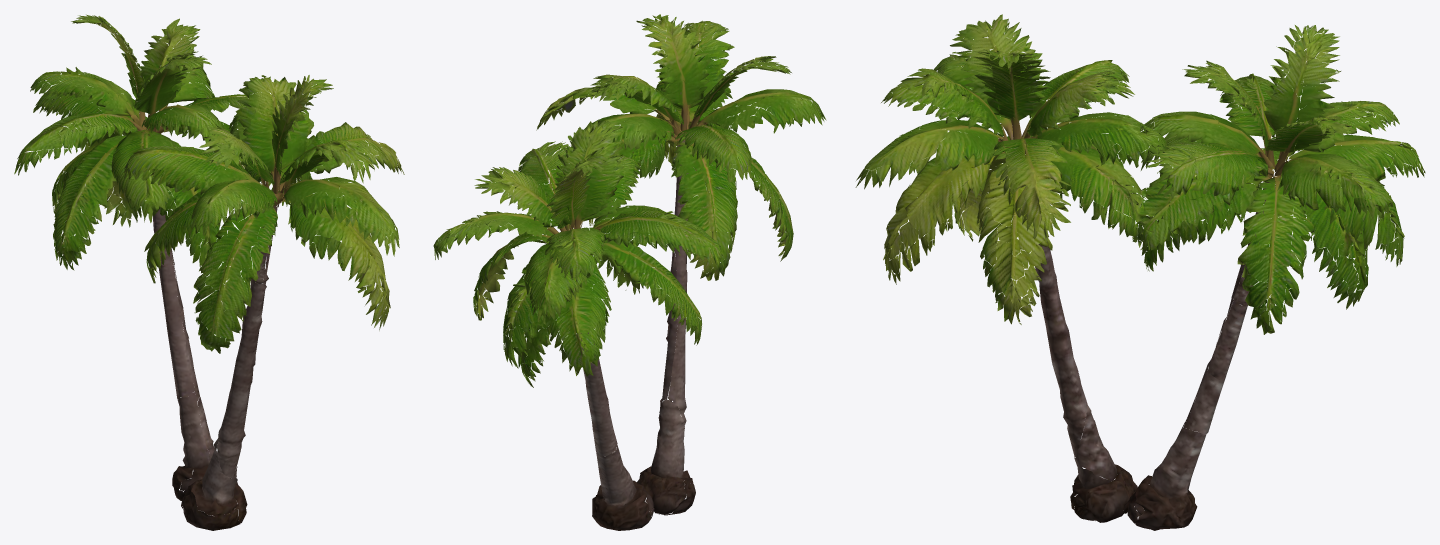
The model's file is palm_pair.glb.
3 renders of one model, left to right at view 1: azimuth 30°, elevation 25°; view 2: azimuth 150°, elevation 25°; view 3: azimuth 270°, elevation 25°, orthographic. The views are drawn at different scales.
Parts seen in each view (by area): view 1: tripo_node_8237481f-205d-4fab-b2f8-46aa4c0a24b6; view 2: tripo_node_8237481f-205d-4fab-b2f8-46aa4c0a24b6; view 3: tripo_node_8237481f-205d-4fab-b2f8-46aa4c0a24b6.
Part boxes in pixels (x1=…): tripo_node_8237481f-205d-4fab-b2f8-46aa4c0a24b6: x1=14, y1=14, x2=404, y2=530; tripo_node_8237481f-205d-4fab-b2f8-46aa4c0a24b6: x1=433, y1=14, x2=826, y2=530; tripo_node_8237481f-205d-4fab-b2f8-46aa4c0a24b6: x1=855, y1=14, x2=1425, y2=530.
Size of the model in its own units: 0.6259 by 0.9445 by 0.9981.
1 material, 1 textured.
